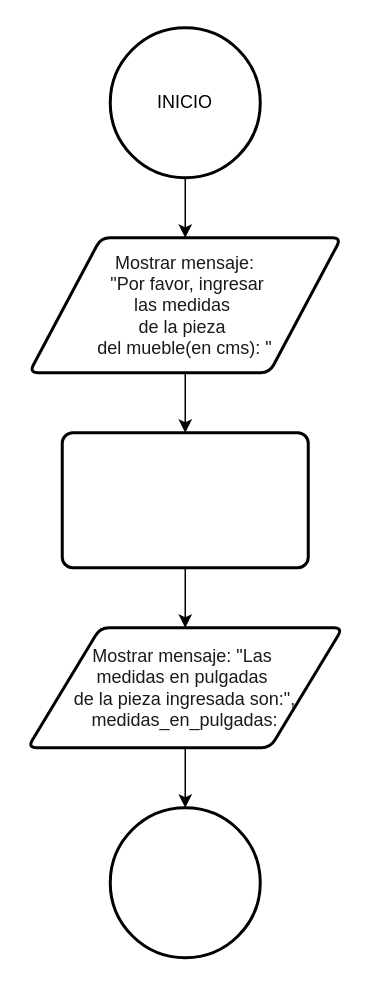
Some shapes in this 369 by 984 pixel diagram are drawn without their labels. The shapes that lost their labels are listed below. From the top down, each one's box as (x1, y1, x2, y2) in pixels, then its label:
(60, 430, 309, 568): Convertir medidas_en_pulgadas = medidas_en_cms / 2.54
(108, 806, 261, 958): Fin
